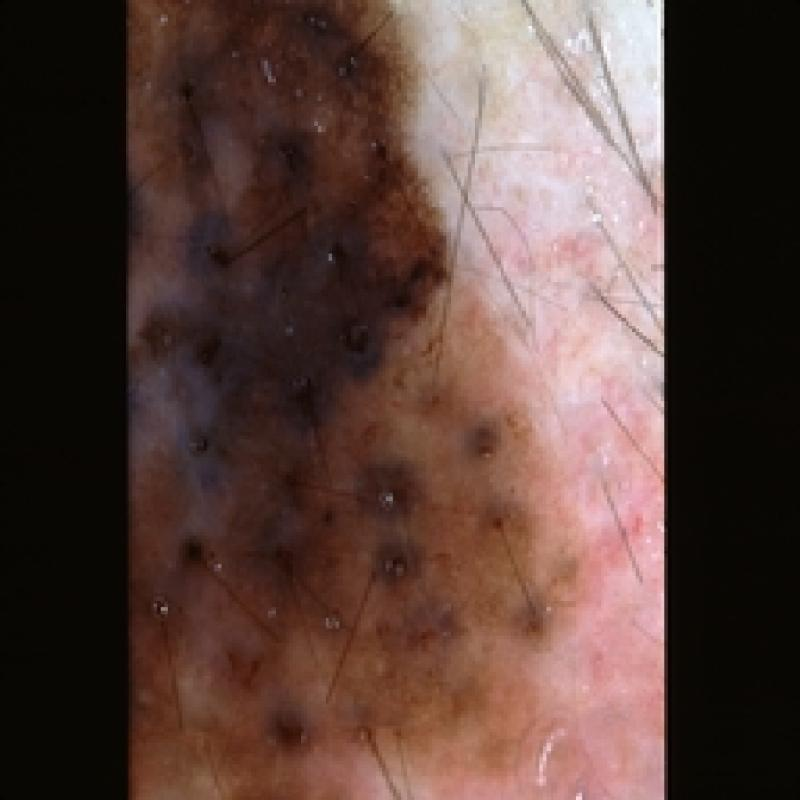malignant: (131, 0, 544, 753)
